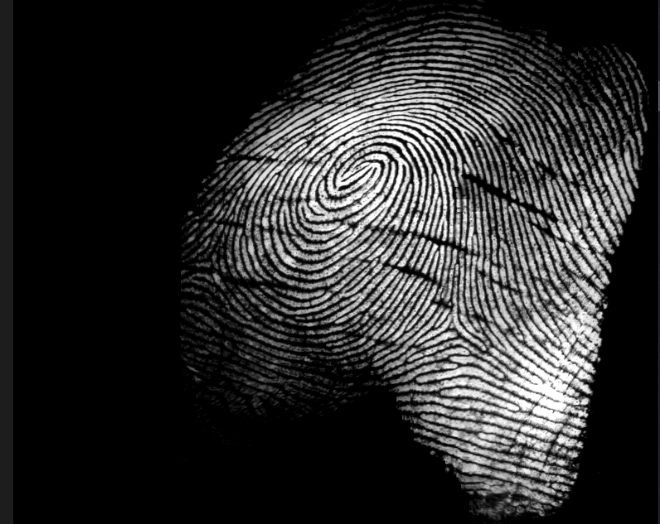nucelo: (344, 149, 387, 183)
verticilo: (431, 303, 475, 342), (197, 218, 228, 245)
